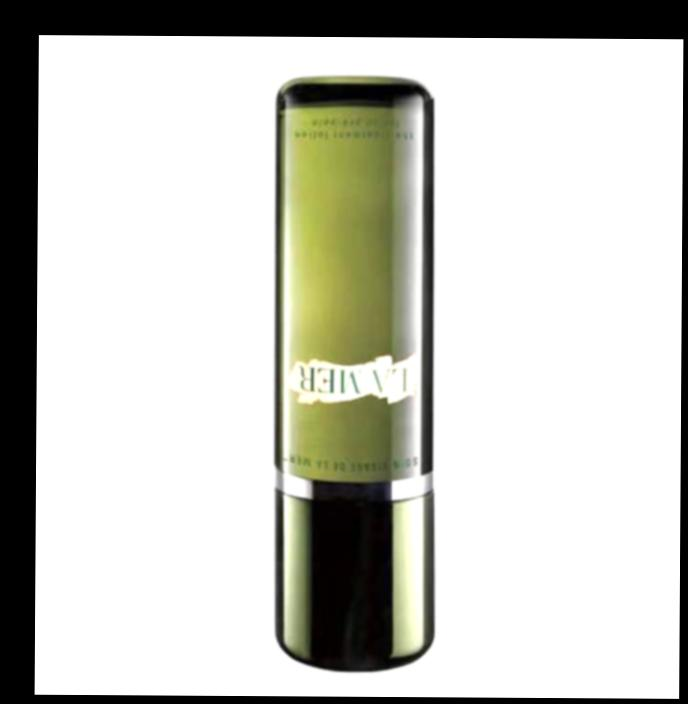cosmetic: (264, 79, 435, 664)
